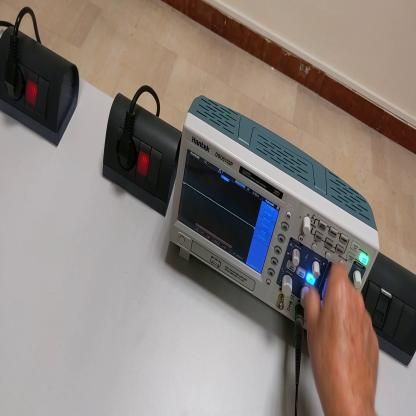hand: (304, 263, 382, 416)
oscilloscope: (169, 95, 380, 331)
socket: (2, 26, 81, 155), (103, 96, 183, 222)
